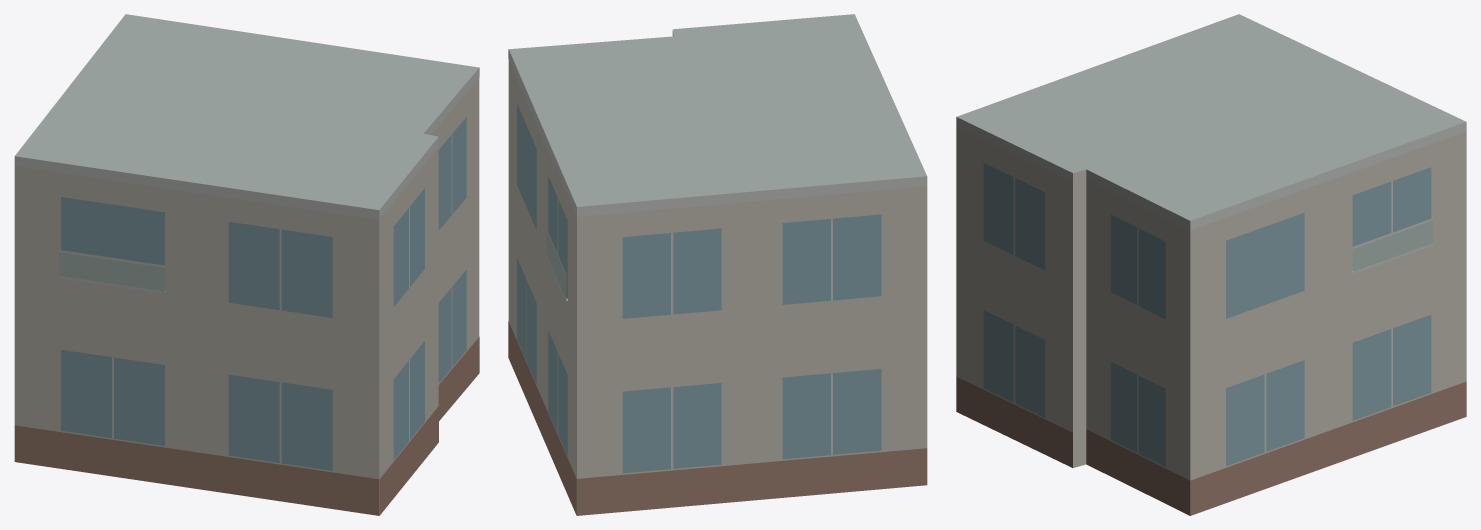
The model's file is survey-upis-33046183.glb.
3 renders of one model, left to right at view 1: azimuth 30°, elevation 25°; view 2: azimuth 150°, elevation 25°; view 3: azimuth 270°, elevation 25°, orthographic. The views are drawn at different scales.
Parts seen in each view (by area): view 1: survey-upis-33046183.tmp; view 2: survey-upis-33046183.tmp; view 3: survey-upis-33046183.tmp.
Boxes of the visible parts, box(x1,y1,x2,y2) form: survey-upis-33046183.tmp: box(14, 14, 479, 515); survey-upis-33046183.tmp: box(508, 14, 927, 515); survey-upis-33046183.tmp: box(956, 14, 1466, 515).
Bounding box in the file's own units: 11.44 × 7.6 × 11.92.
